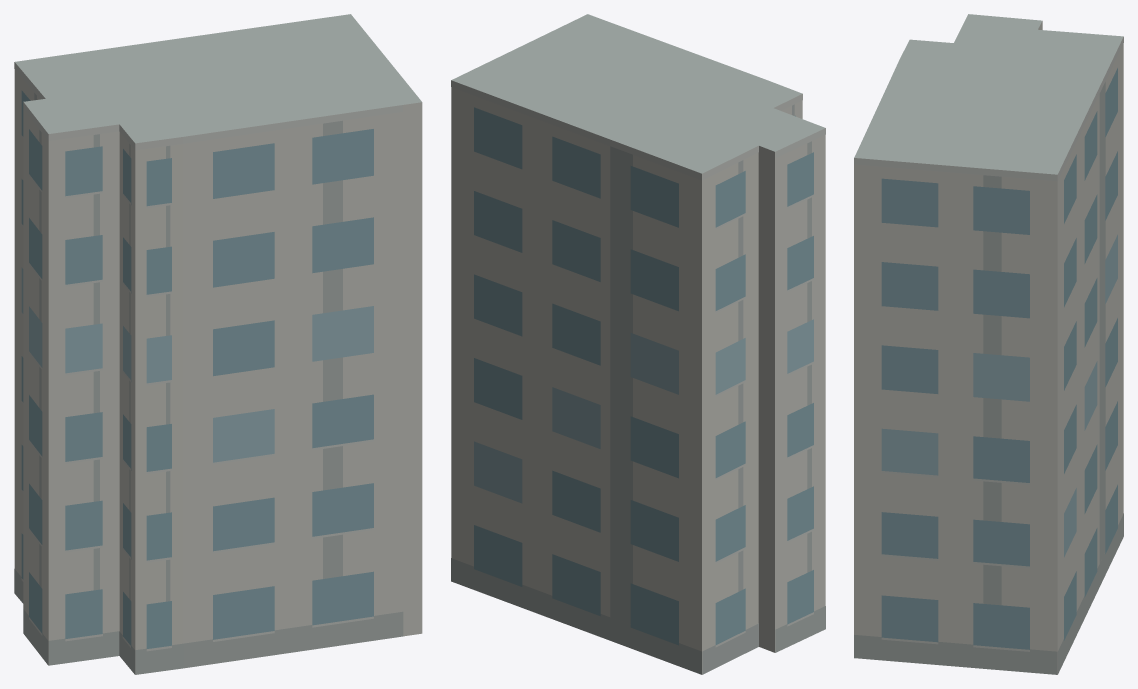
The model's file is survey-upis-32824843.glb.
The picture shows the model from 3 angles, left to right: view 1: azimuth 30°, elevation 25°; view 2: azimuth 150°, elevation 25°; view 3: azimuth 270°, elevation 25°; orthographic projection. The views are drawn at different scales.
Visible parts, largest first — view 1: survey-upis-32824843.tmp; view 2: survey-upis-32824843.tmp; view 3: survey-upis-32824843.tmp.
Part boxes in pixels (x1,y1,x2,y2): survey-upis-32824843.tmp: (14, 14, 422, 674); survey-upis-32824843.tmp: (451, 14, 825, 674); survey-upis-32824843.tmp: (854, 14, 1123, 674).
Bounding box in the file's own units: 12.62 × 18.3 × 8.95.
